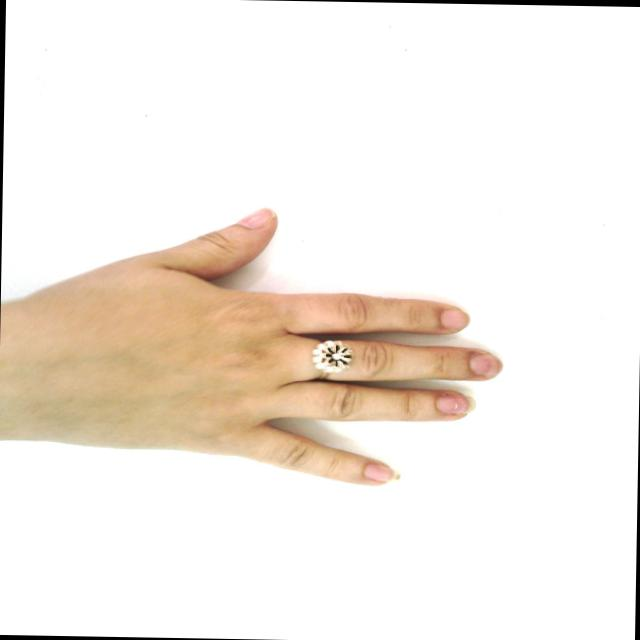Nail: (469, 352, 502, 378), (235, 206, 275, 227), (437, 391, 470, 413), (364, 462, 400, 481), (441, 308, 469, 330)
